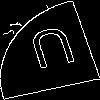U: (24, 25, 83, 79)
